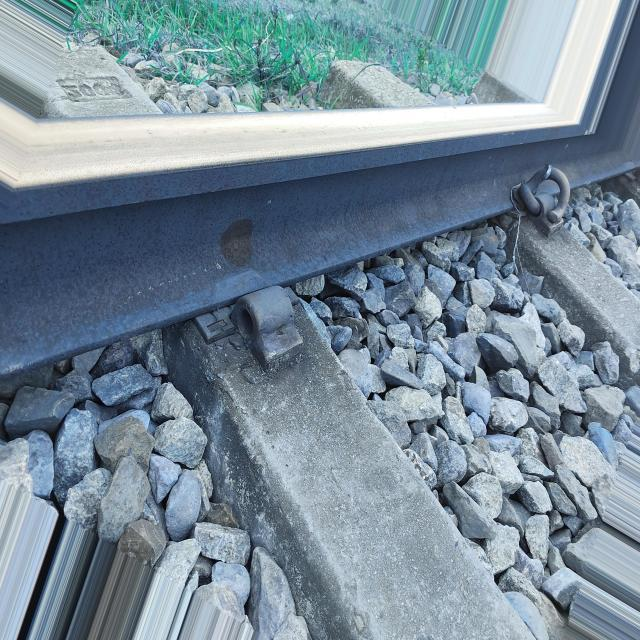Good Fasteners: (510, 165, 570, 275)
Missing Fastener: (163, 286, 304, 415)
